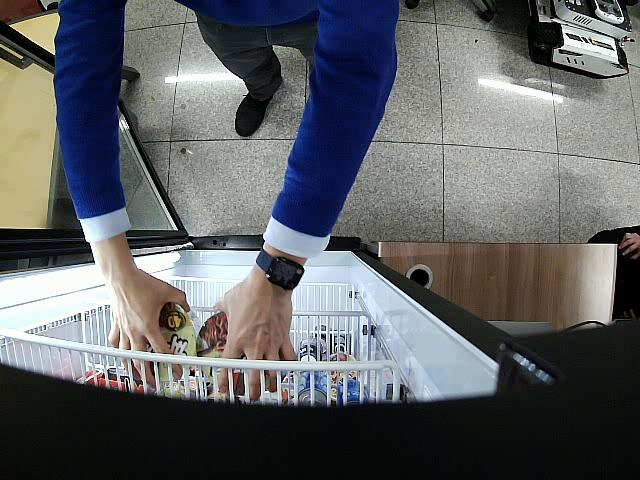00_hand: (107, 263, 190, 389), (212, 290, 298, 399)
03_chapagetti_L: (197, 311, 287, 395), (145, 302, 197, 382)
